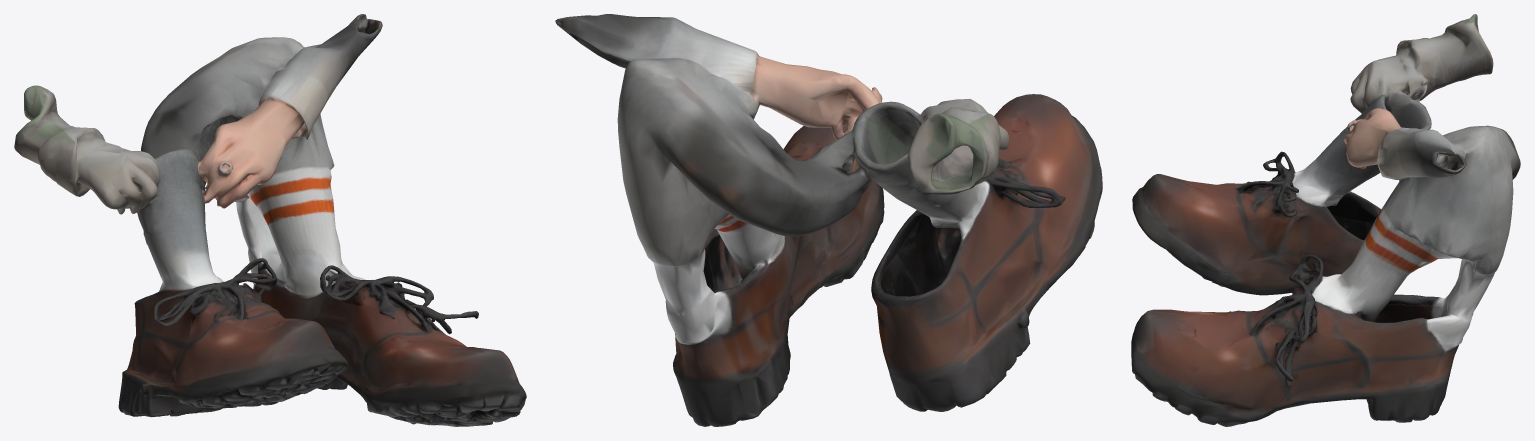
The model's file is les-derbies-femme_clean.glb.
The picture shows the model from 3 angles, left to right: view 1: azimuth 30°, elevation 25°; view 2: azimuth 150°, elevation 25°; view 3: azimuth 270°, elevation 25°; orthographic projection. The views are drawn at different scales.
Size of the model in its own units: 1.98 by 1.7 by 2.
Materials: 1 (1 with a texture image).
